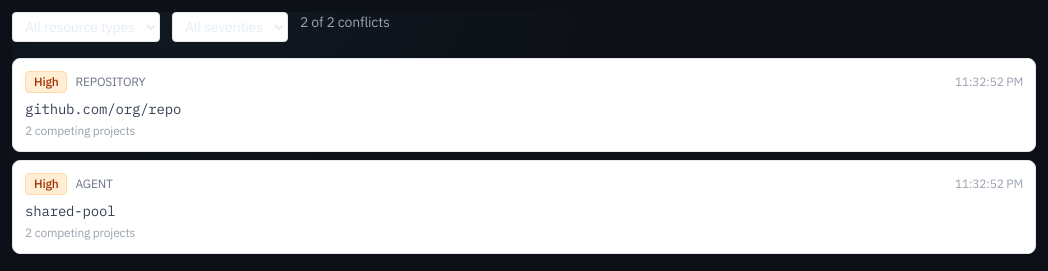
ConflictListView › filters by resource type
The image size is (1048, 271).
Note: Select "agent" filter
Select "agent" in the dropdown named "Filter by resource type" at point(86, 27), box [12,12,160,42]
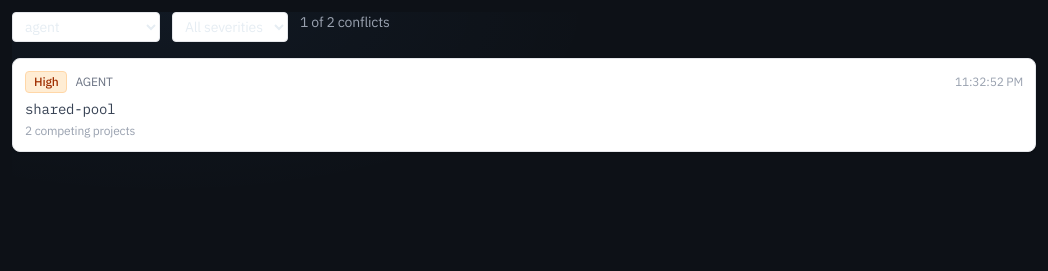
Expected: the text "shared-pool" is shown, [25,100,116,118]
Expected: the button "github.com/org/repo" is gone
